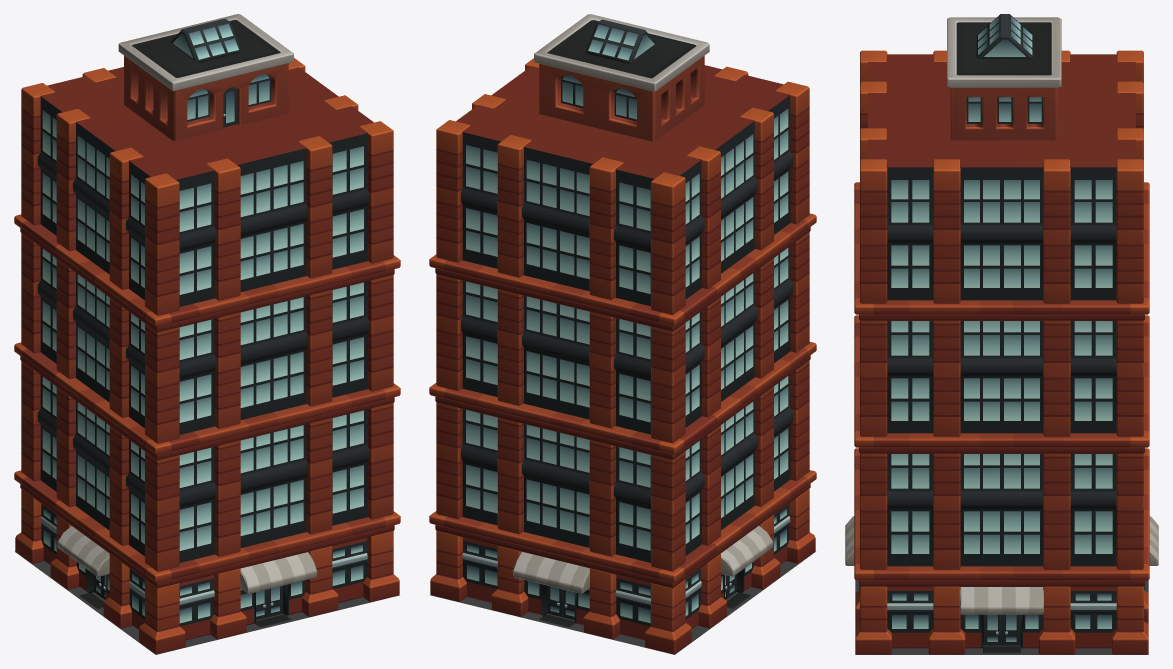
File: red_sky_scraper.glb
The picture shows the model from 3 angles, left to right: view 1: azimuth 30°, elevation 25°; view 2: azimuth 150°, elevation 25°; view 3: azimuth 270°, elevation 25°; orthographic projection. The views are drawn at different scales.
Parts seen in each view (by area): view 1: office_building_type1_double_floor_red.002, office_building_type1_double_floor_red, office_building_type1_double_floor_red.001, office_building_type1_ground_floor_red, office_building_type1_rooftop_floor_red, door_office_building_type1_rooftop_floor_red; view 2: office_building_type1_double_floor_red.002, office_building_type1_double_floor_red, office_building_type1_double_floor_red.001, office_building_type1_ground_floor_red, office_building_type1_rooftop_floor_red; view 3: office_building_type1_double_floor_red.002, office_building_type1_double_floor_red, office_building_type1_double_floor_red.001, office_building_type1_ground_floor_red, office_building_type1_rooftop_floor_red, door_rightside_office_left, door_rightside_office_right.
Part boxes in pixels (box(x1,y1,x2,y2)): office_building_type1_double_floor_red.002: box(14, 58, 400, 332); office_building_type1_double_floor_red: box(14, 361, 400, 588); office_building_type1_double_floor_red.001: box(14, 233, 400, 460); office_building_type1_ground_floor_red: box(15, 489, 399, 654); office_building_type1_rooftop_floor_red: box(118, 14, 293, 141); door_office_building_type1_rooftop_floor_red: box(223, 86, 237, 127); office_building_type1_double_floor_red.002: box(429, 58, 816, 331); office_building_type1_double_floor_red: box(429, 360, 816, 588); office_building_type1_double_floor_red.001: box(429, 232, 816, 459); office_building_type1_ground_floor_red: box(430, 489, 815, 654); office_building_type1_rooftop_floor_red: box(534, 14, 709, 141); office_building_type1_double_floor_red.002: box(854, 50, 1149, 320); office_building_type1_double_floor_red: box(854, 448, 1149, 586); office_building_type1_double_floor_red.001: box(854, 315, 1149, 453); office_building_type1_ground_floor_red: box(845, 516, 1158, 654); office_building_type1_rooftop_floor_red: box(947, 14, 1061, 140); door_rightside_office_left: box(983, 614, 1001, 645); door_rightside_office_right: box(1002, 614, 1020, 645).
Size of the model in its own units: 17.08 by 34.22 by 17.08.
Materials: 3 (3 with a texture image).
